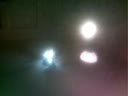window: (0, 24, 49, 96), (62, 81, 86, 96), (57, 46, 79, 61), (110, 80, 128, 96), (107, 59, 120, 69)
